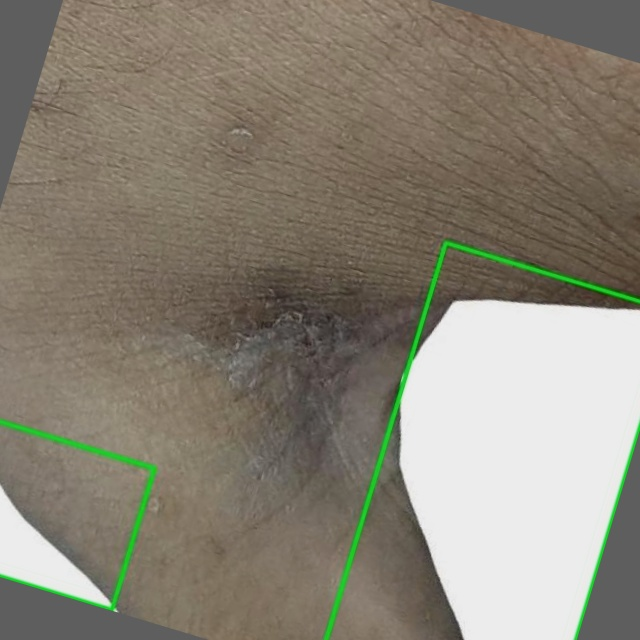Scabies: (326, 243, 639, 639), (0, 422, 154, 610)
